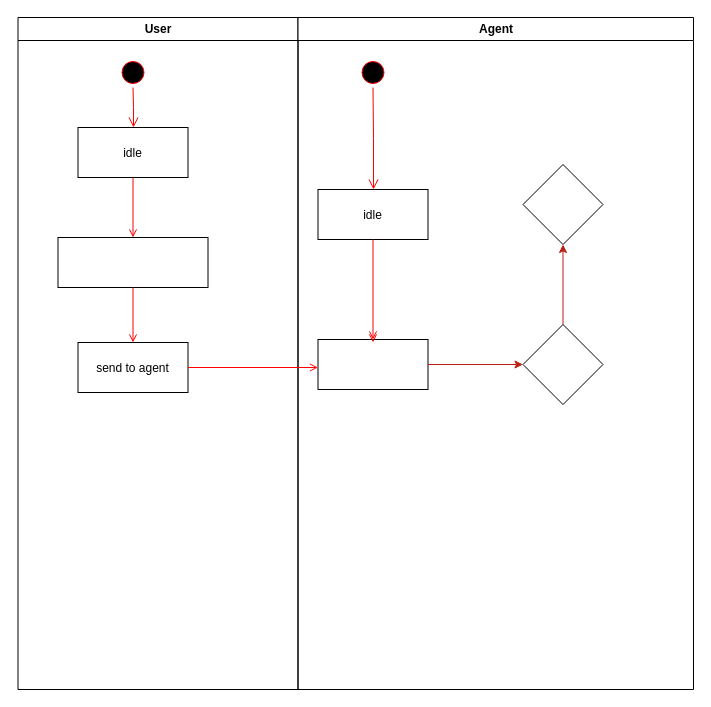
Some shapes in this 711 by 707 pixel diagram are drawn without their labels. The centre of each missing label's shape, as x and y in pixels:
"check for new commands" goes at [372,364].
"pant type" goes at [562,364].
"upload or capture source" goes at [132,262].
